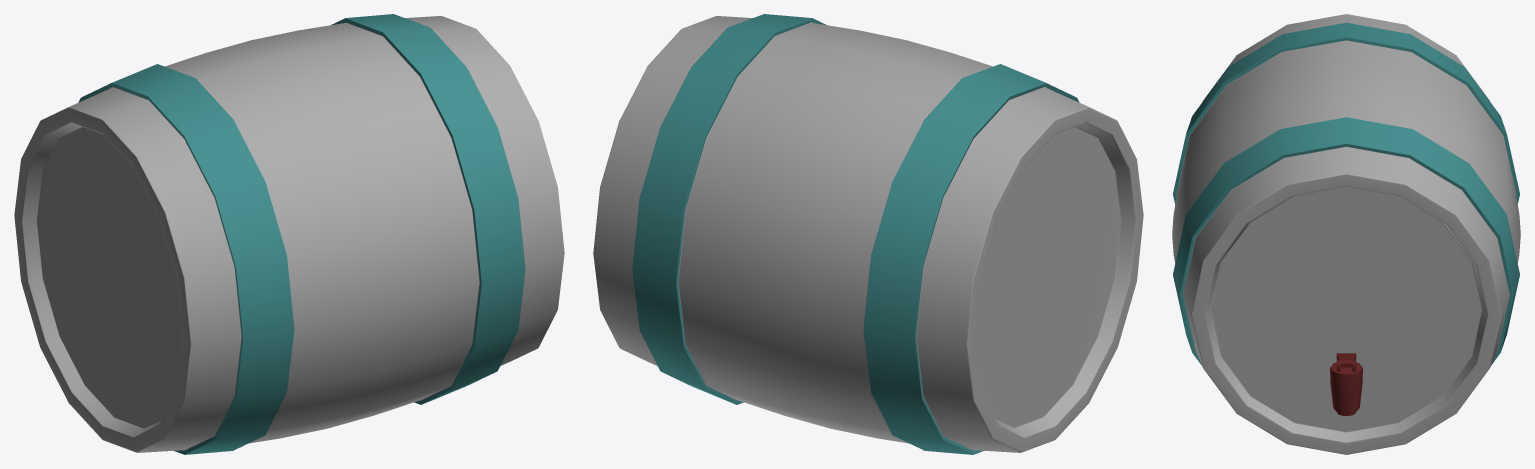
The model's file is BarileDef.fbx.
3 views of the same model, side by side, from view 1: azimuth 30°, elevation 25°; view 2: azimuth 150°, elevation 25°; view 3: azimuth 270°, elevation 25° (orthographic). The views are drawn at different scales.
Parts seen in each view (by area): view 1: Barrrel; view 2: Barrrel; view 3: Barrrel, Beccuccio.
Part boxes in pixels (x1,y1,x2,y2): Barrrel: (14, 14, 564, 454); Barrrel: (593, 14, 1143, 454); Barrrel: (1172, 14, 1520, 454); Beccuccio: (1330, 362, 1362, 415).
Size of the model in its own units: 2.81 by 2.25 by 2.25.
